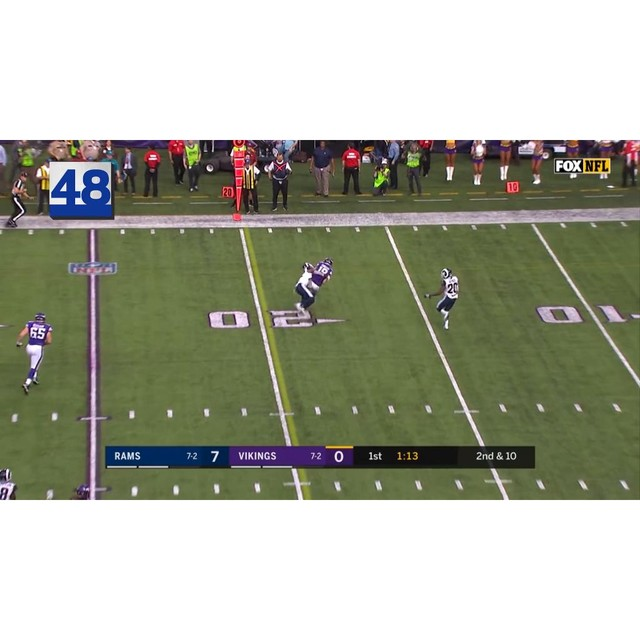american-football-player: (15, 312, 53, 392), (424, 269, 460, 331)
referee: (6, 171, 31, 228)
